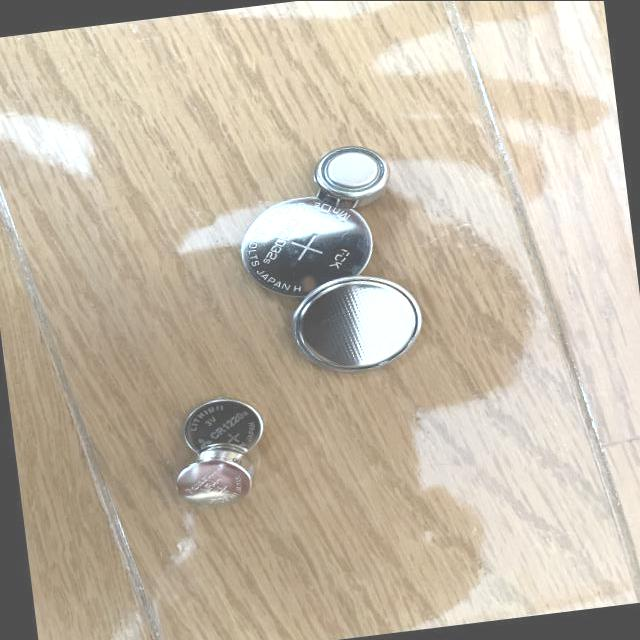COIN: (230, 188, 380, 308), (282, 270, 428, 382), (175, 389, 266, 466), (304, 138, 393, 214), (167, 442, 255, 514)
